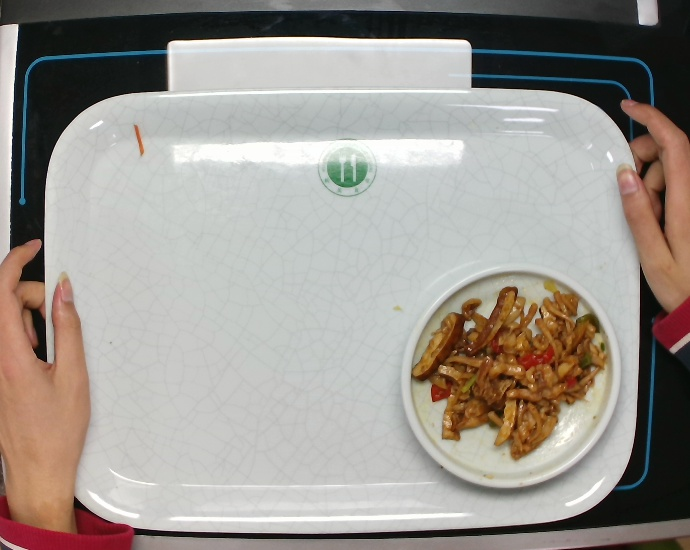JYsf-Xiao_Yuan_Pan: (401, 264, 623, 491)
